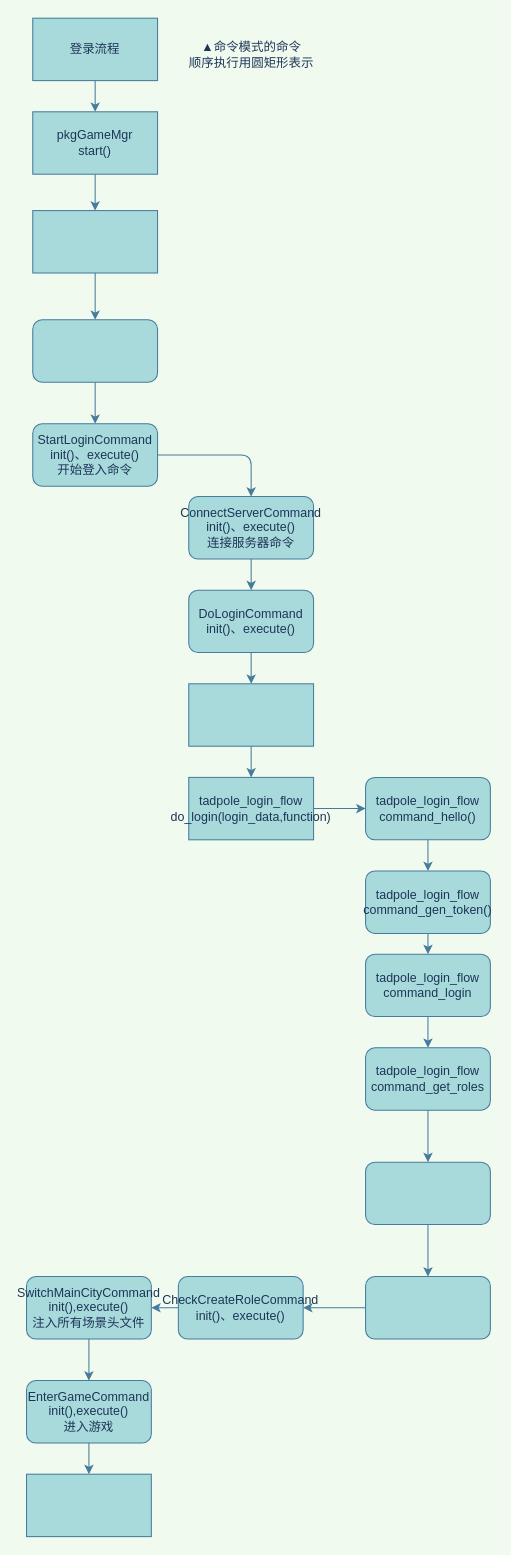
Some shapes in this 511 by 1555 pixel diagram are drawn without their labels. The shapes that lost their labels are listed below. From the top down, each one's centre as x and y in pixels, then its label:
At pixel 95 241: "GameFlowControl enterGame()".
At pixel 95 350: "initGameCommand init()、execute() 初始化游戏命令".
At pixel 251 714: "LoginFlowControl startLogin(user_name)".
At pixel 427 1193: "tadpole_login_flow command_create_role".
At pixel 427 1307: "tadpole_login_flow command_choose_role".
At pixel 88 1505: "进入主城".
